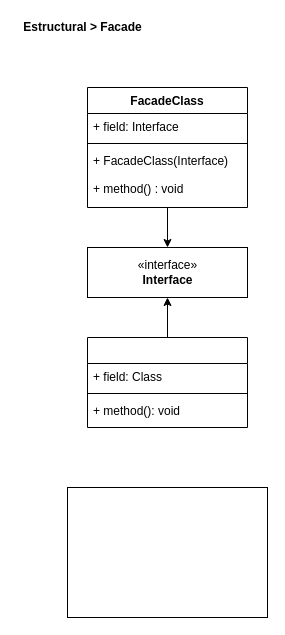
The diagram is 285 pixels wide and 635 high, and some of its shapes have lost their labels. Here are the shapes that lost their labels. From the top down, the box of each, then its label:
(86, 336, 248, 428): Class : Interface
(66, 486, 268, 618): var facade = new FacadeClass ( new Class() ); facade.DoSomething();
